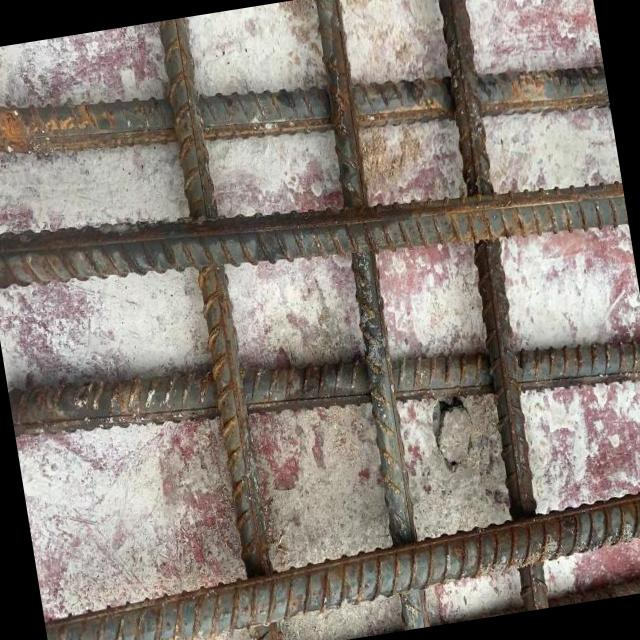ribbed bar: (7, 283, 640, 484), (0, 132, 629, 326), (0, 8, 610, 206), (39, 487, 640, 640), (422, 0, 563, 612), (303, 0, 439, 631), (157, 18, 287, 640)
